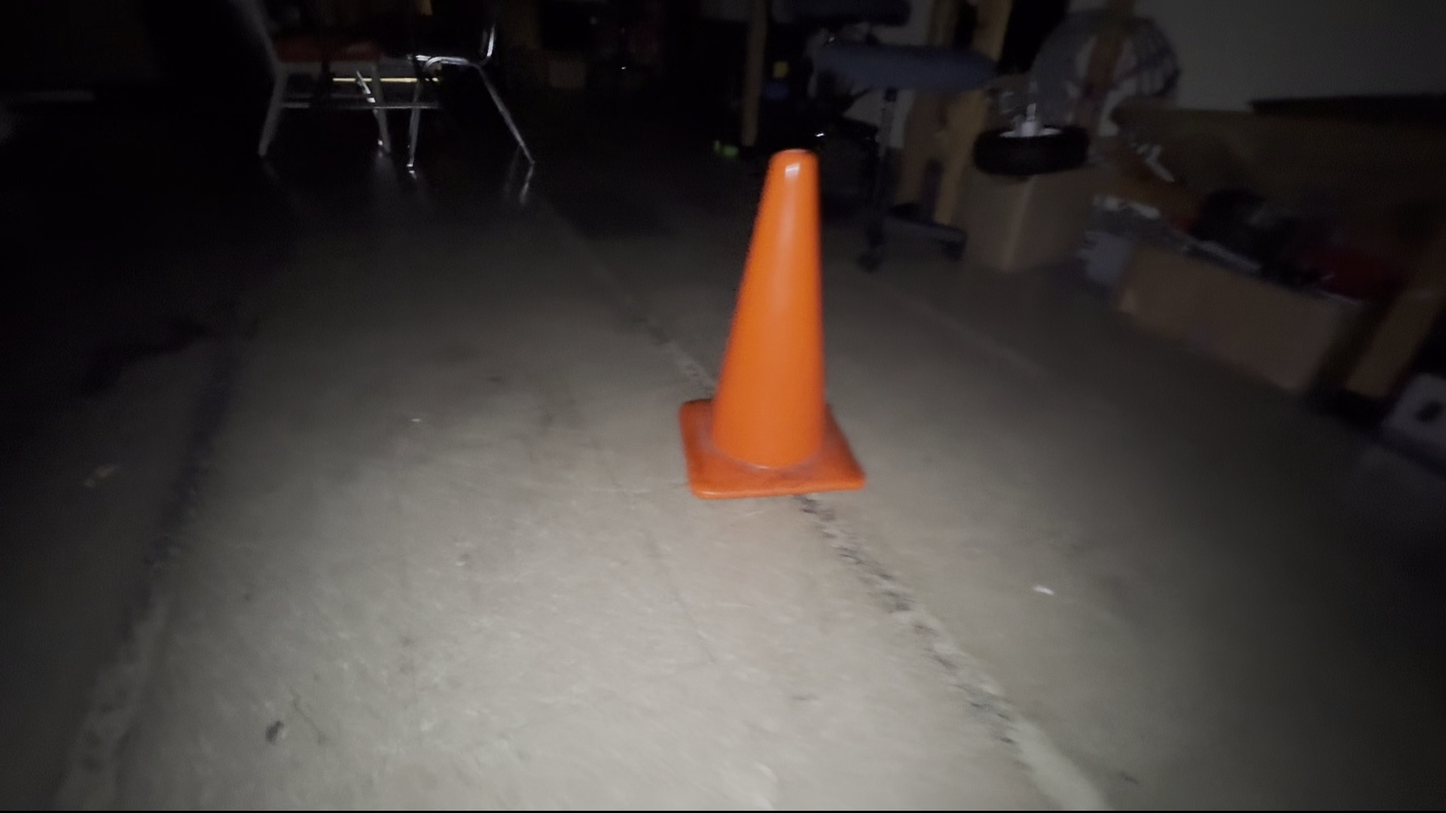traffic_cone: (678, 147, 867, 500)
